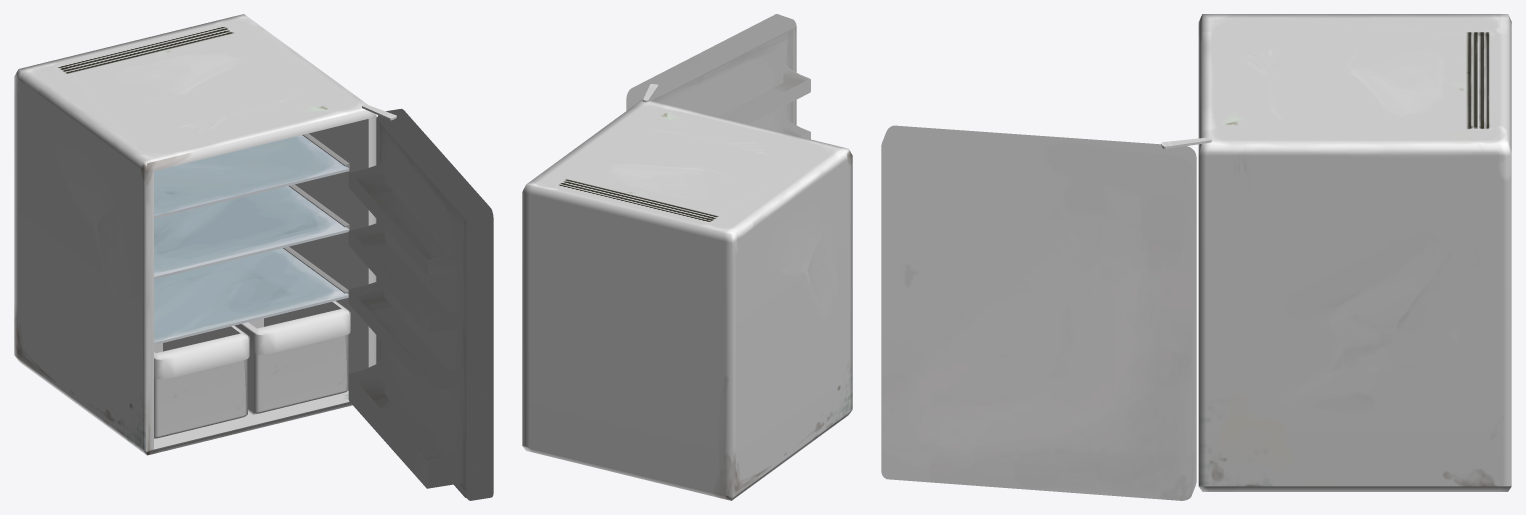
The model's file is Fridge.fbx.
The picture shows the model from 3 angles, left to right: view 1: azimuth 30°, elevation 25°; view 2: azimuth 150°, elevation 25°; view 3: azimuth 270°, elevation 25°; orthographic projection. The views are drawn at different scales.
Visible parts, largest first — view 1: pasted__pCube1, polySurface2, group2_pasted__pCube9, pasted__pCube15, pCube13; view 2: pasted__pCube1, polySurface2; view 3: pasted__pCube1, polySurface2.
Boxes of the visible parts, x1,y1,x2,y2 form: pasted__pCube1: (14,14,376,455); polySurface2: (348,108,493,500); group2_pasted__pCube9: (154,135,349,344); pasted__pCube15: (154,301,350,438); pCube13: (283,133,349,293); pasted__pCube1: (522,99,852,500); polySurface2: (626,14,810,139); pasted__pCube1: (1198,14,1511,491); polySurface2: (881,125,1196,500).
Size of the model in its own units: 0.529 by 0.5914 by 0.9664.
6 materials, 5 textured.
